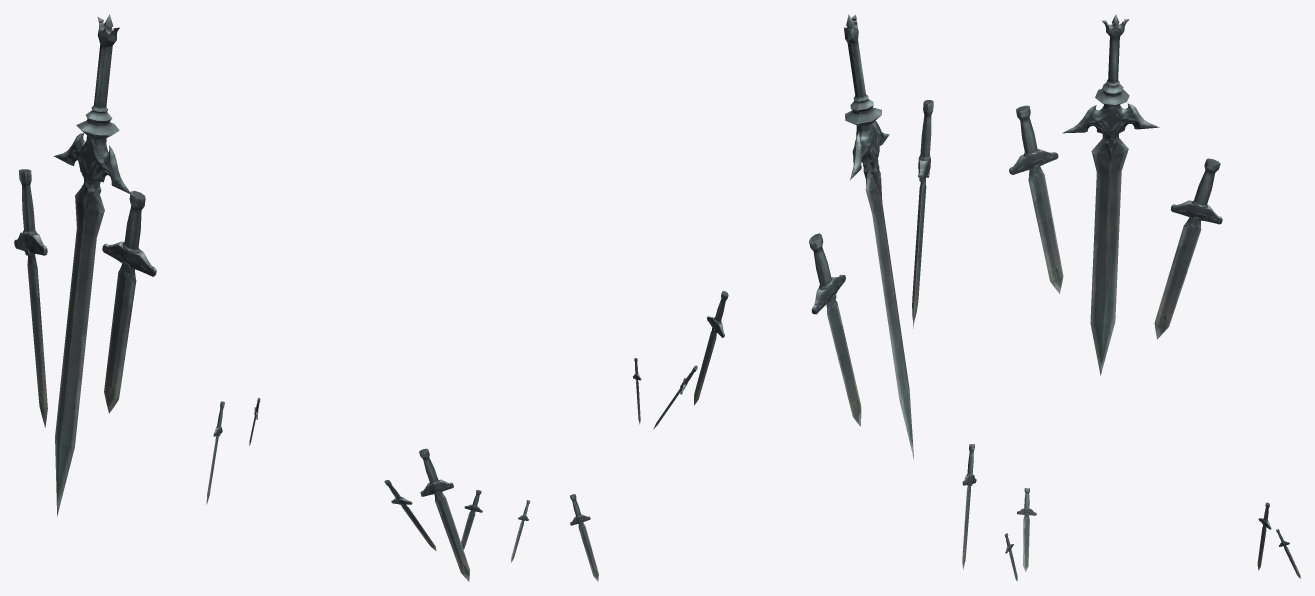
Rendered from Area_04_7.fbx.
3 views of the same model, side by side, from view 1: azimuth 30°, elevation 25°; view 2: azimuth 150°, elevation 25°; view 3: azimuth 270°, elevation 25° (orthographic). The views are drawn at different scales.
Parts seen in each view (by area): view 1: Area_04_7; view 2: Area_04_7; view 3: Area_04_7.
Part boxes in pixels (x1,y1,x2,y2): Area_04_7: [14, 14, 482, 581]; Area_04_7: [511, 14, 933, 581]; Area_04_7: [962, 14, 1300, 581].
Bounding box in the file's own units: 2677 × 4200 × 2663.
